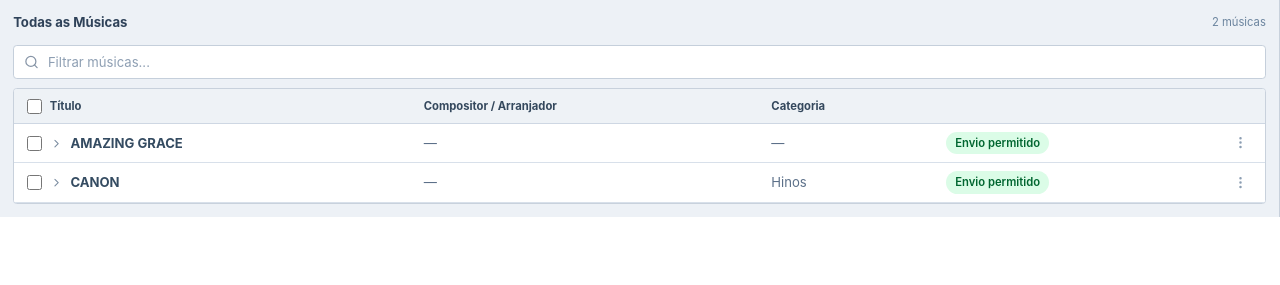
SongsList › selects all visible songs with the header checkbox
The image size is (1280, 285).
expect the text "CANON" is shown: met, box [70, 173, 120, 192]
Click the checkbox named "Selecionar tudo" at (35, 106), box [27, 98, 42, 114]
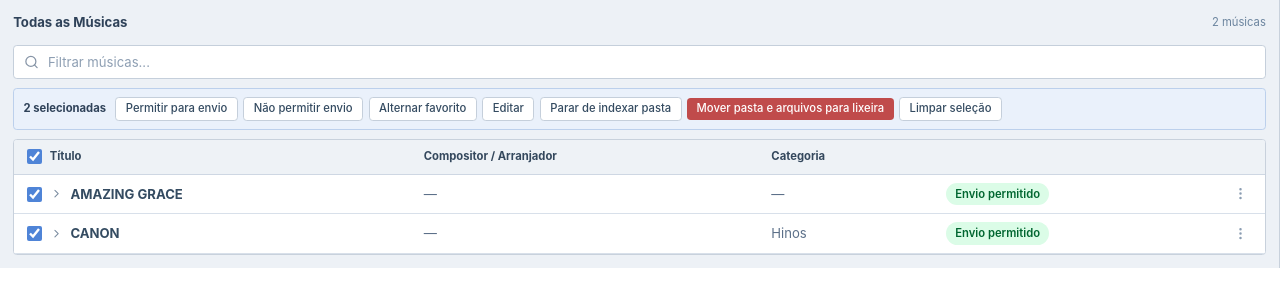
expect the text "2 selecionadas" is shown: met, box [24, 101, 106, 116]
